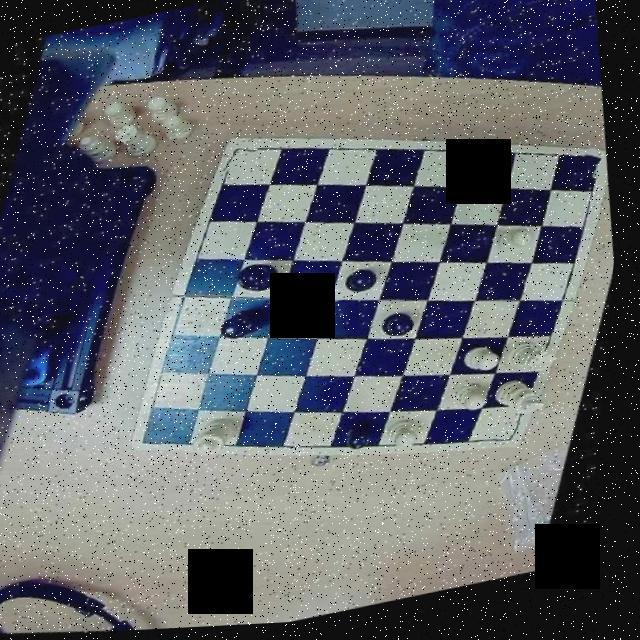chess-table-corners: (218, 138, 266, 182), (138, 416, 181, 457), (574, 150, 614, 190), (498, 424, 536, 458)
